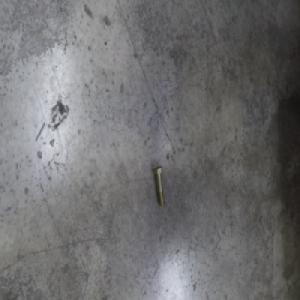Bolt: (153, 165, 166, 207)
